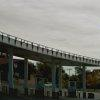Bridge: (2, 25, 95, 71)
